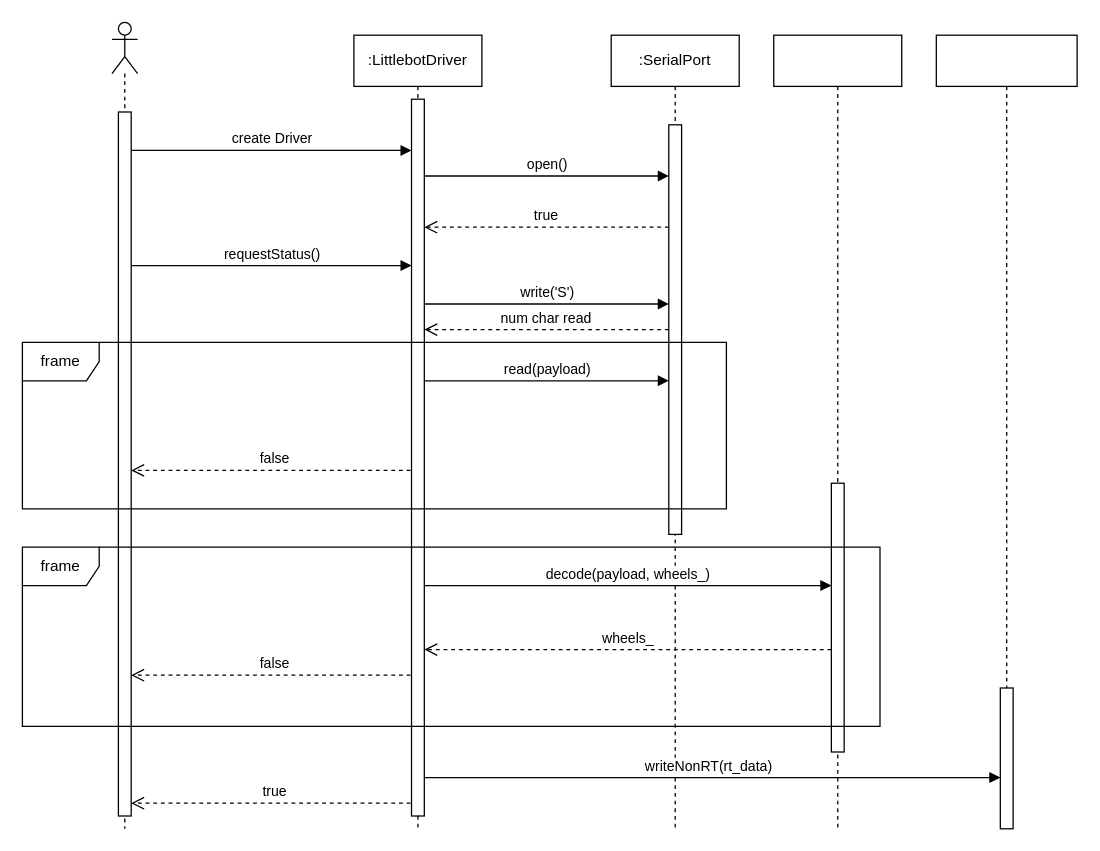
This 1100x851 diagram has some shape labels left out. Each missing label, with the box of its shape:
:codec: (772, 34, 902, 829)
:RosRTBuffer: (935, 34, 1077, 829)
